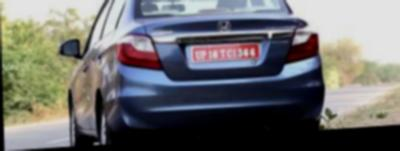License_Plate: (190, 37, 260, 64)
